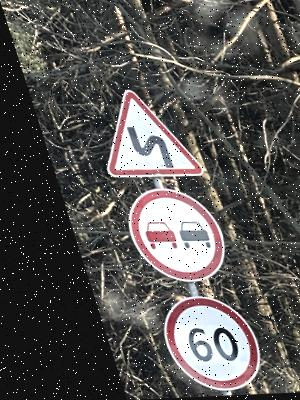Speed Limit -60-: (129, 293, 247, 393)
